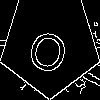O: (25, 20, 74, 76)
